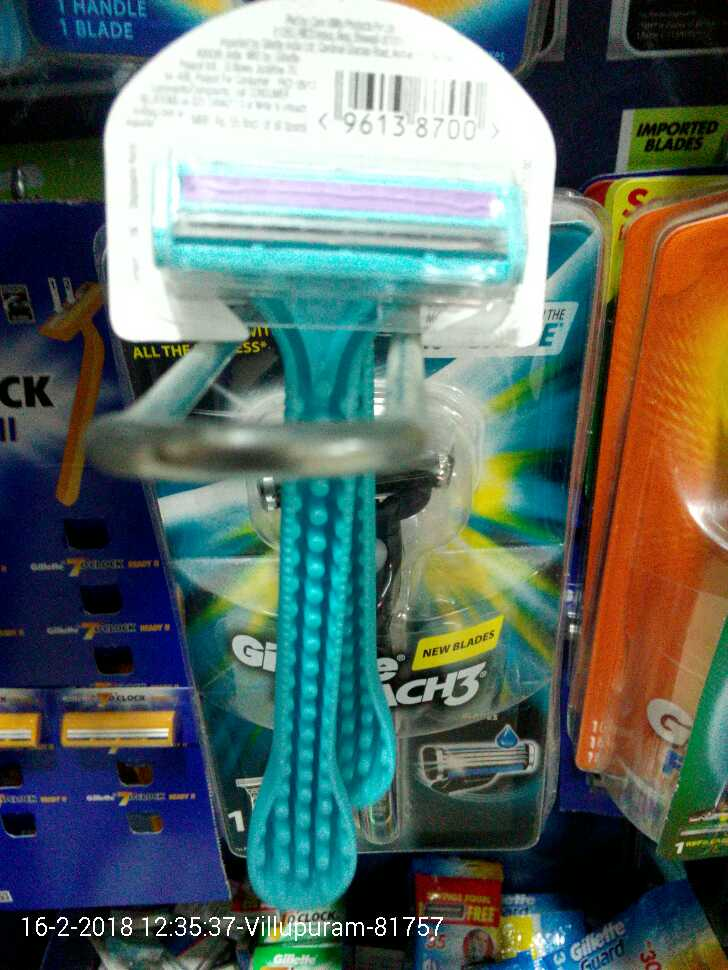reject: (497, 434, 637, 568)
